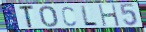5: (118, 2, 139, 28)
C: (61, 5, 78, 27)
H: (97, 3, 121, 27)
L: (80, 5, 99, 27)
O: (39, 5, 60, 28)
T: (18, 5, 36, 29)
